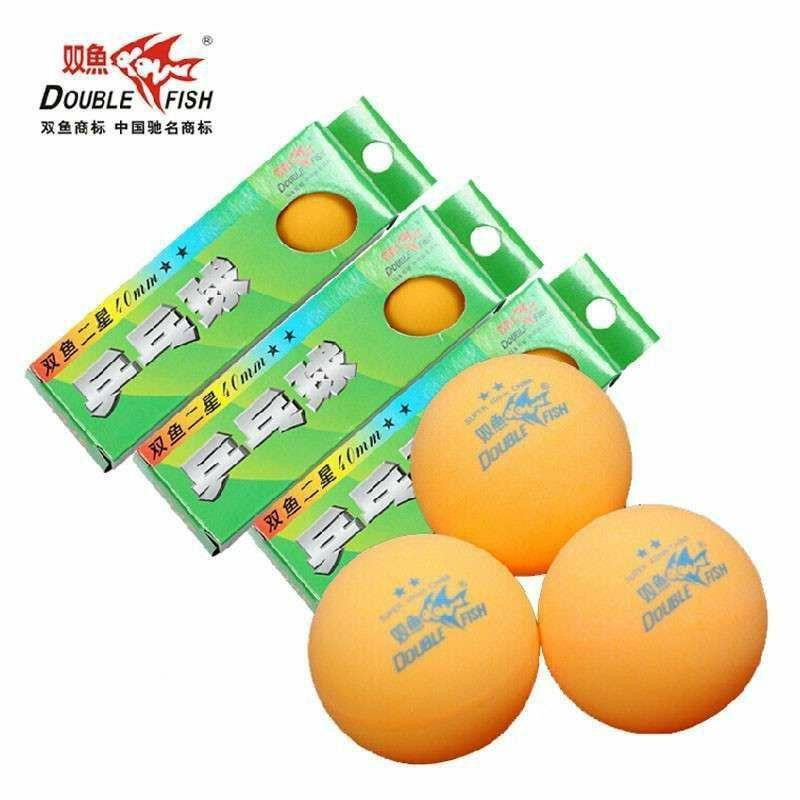ball: (302, 527, 542, 769), (534, 498, 770, 739), (406, 350, 634, 580), (388, 274, 459, 339), (275, 189, 348, 252)
